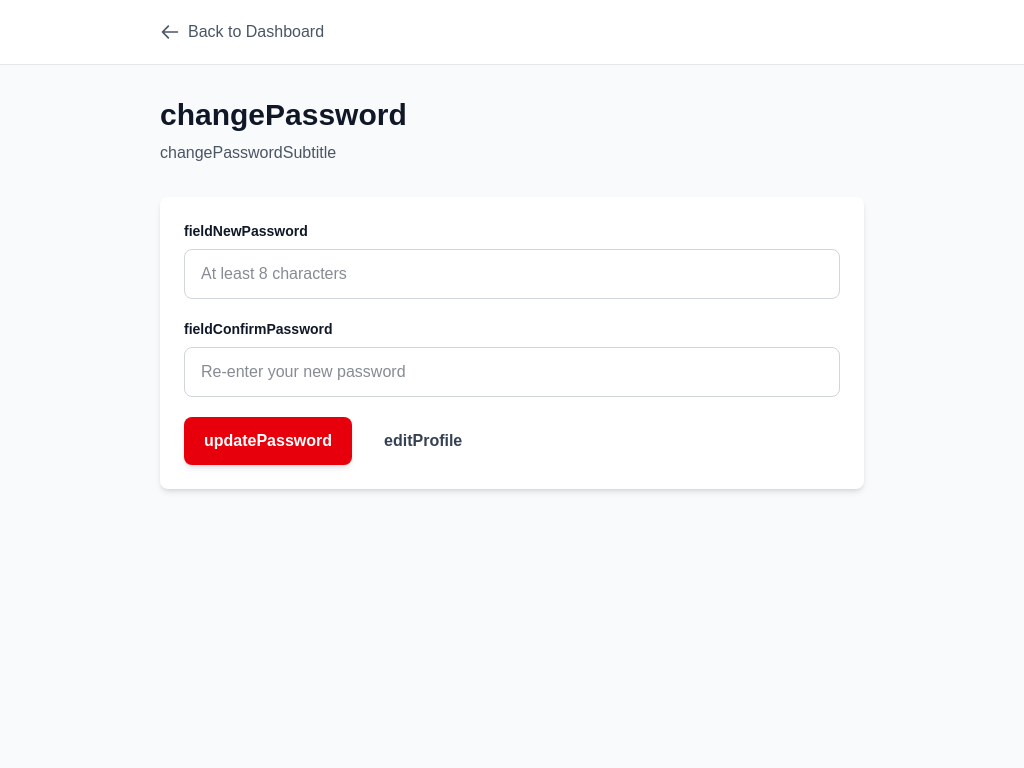
ChangePasswordPage › TC-117 [S-02]: shows the server-provided message when the change fails
Type "NewValid123!" into the password field labelled "fieldNewPassword" at {"x": 512, "y": 274}, box [184, 249, 840, 299]
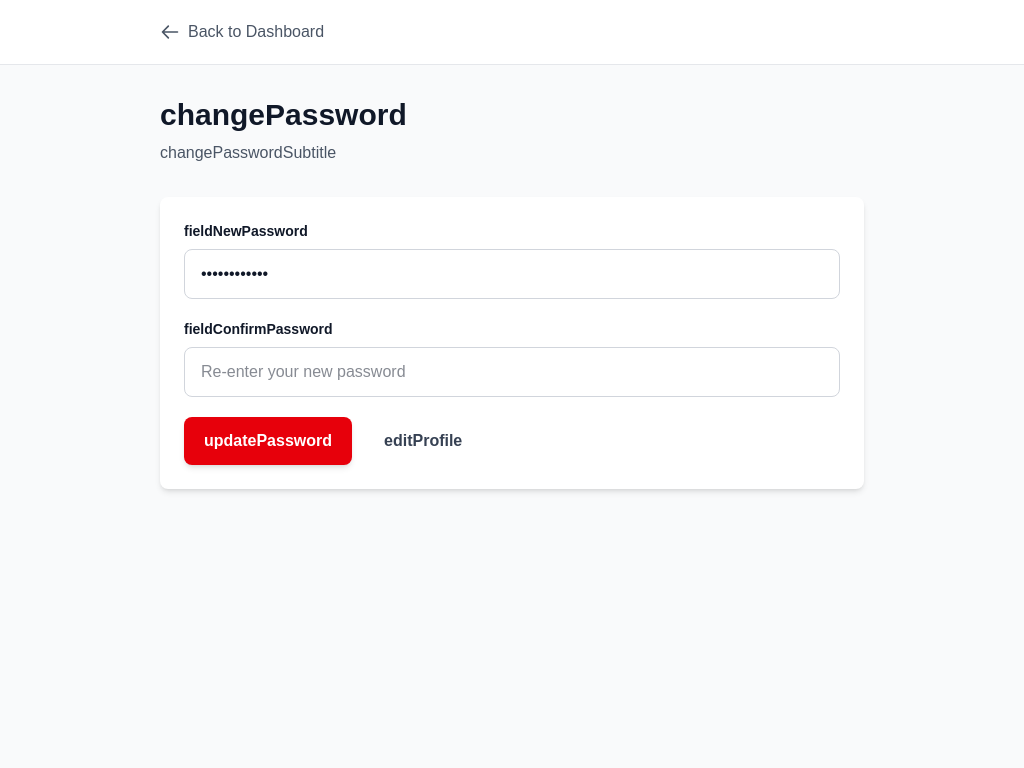
Type "NewValid123!" into the password field labelled "fieldConfirmPassword" at {"x": 512, "y": 372}, box [184, 347, 840, 397]
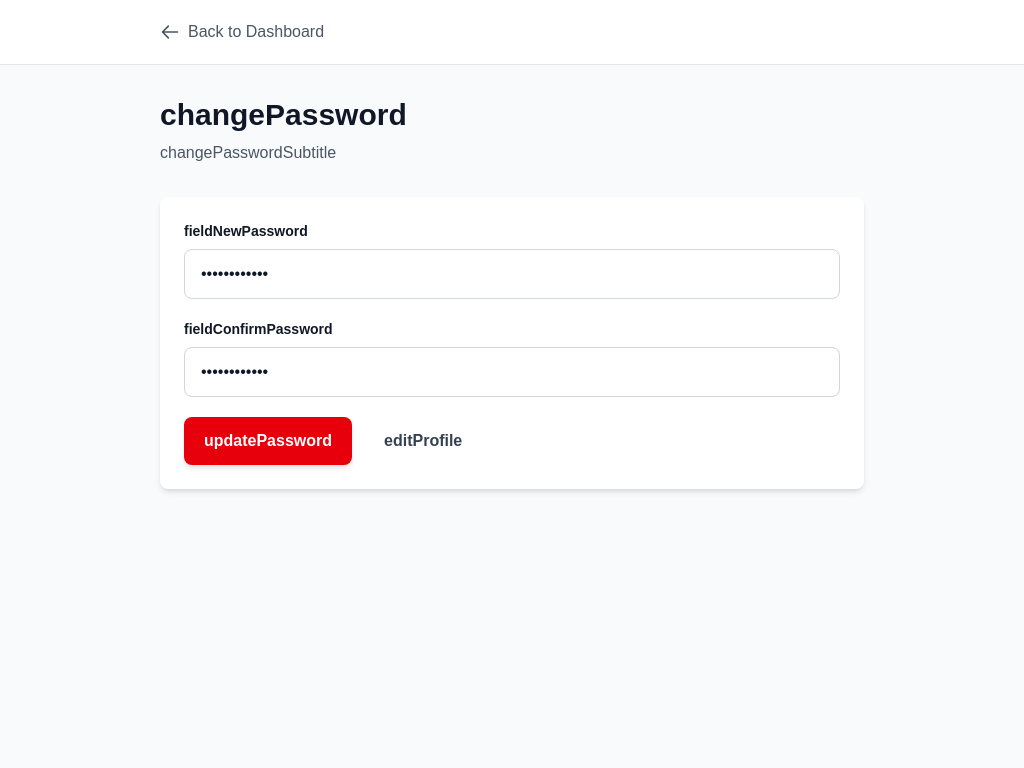
Click the button "updatePassword" at {"x": 268, "y": 441}, box [184, 417, 352, 465]
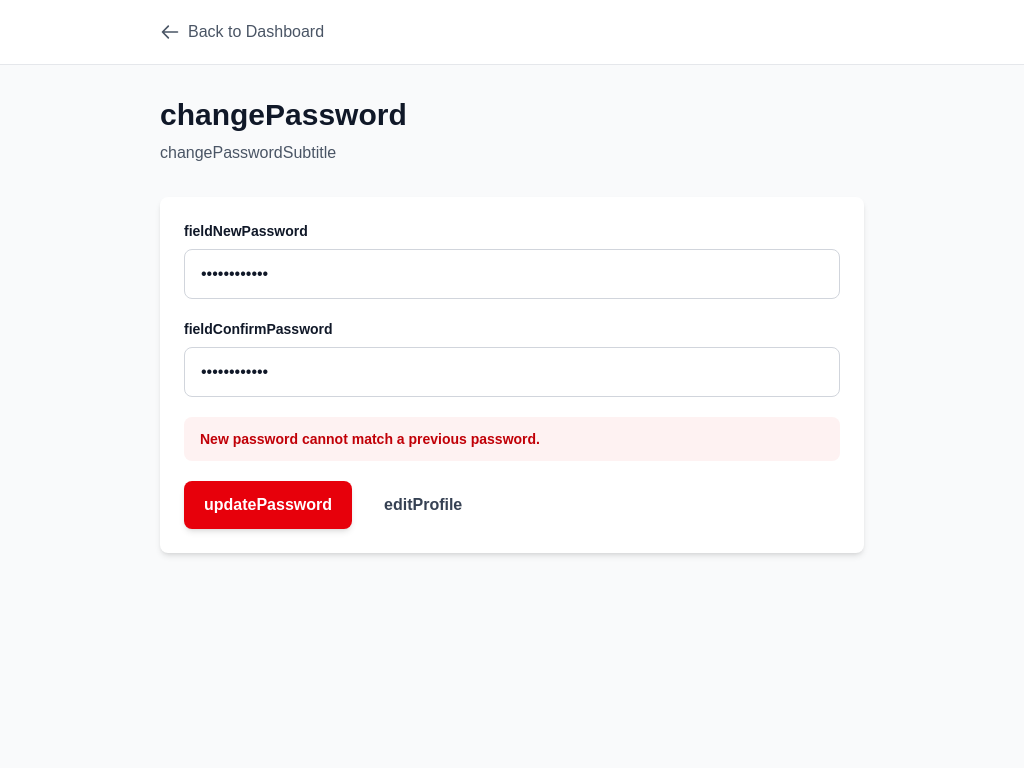
Expected: the text "New password cannot match a previous password." is shown, [184, 417, 840, 461]
